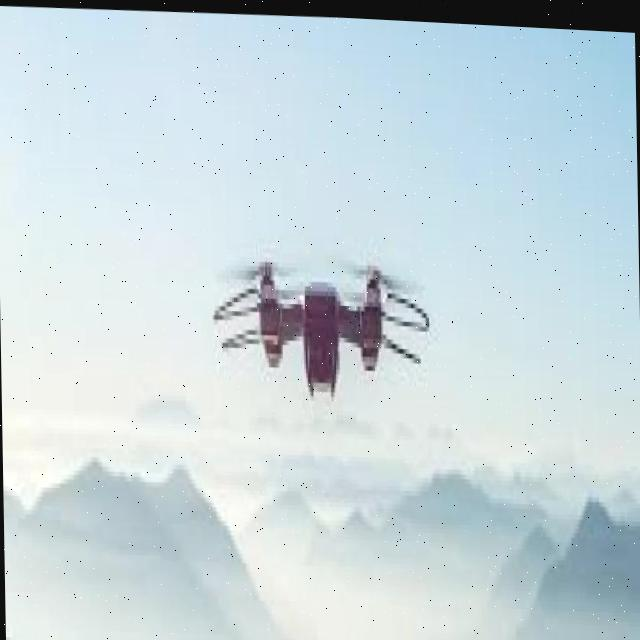drone: (200, 219, 440, 441)
